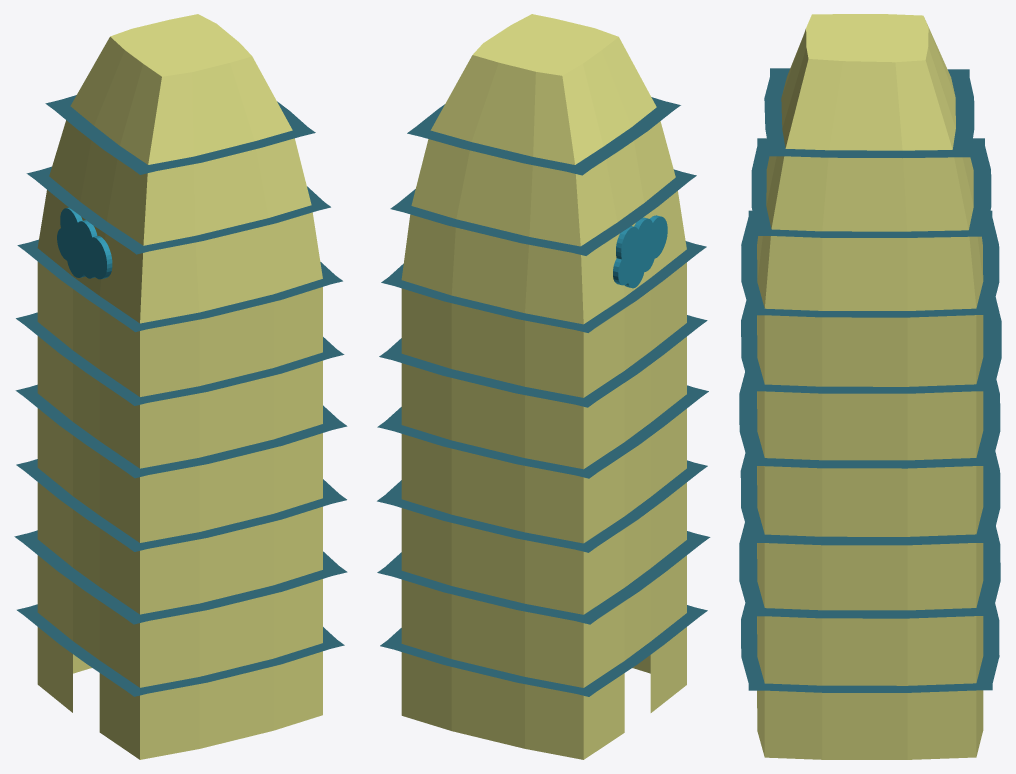
Rendered from NewSFT_v1.glb.
3 views of the same model, side by side, from view 1: azimuth 30°, elevation 25°; view 2: azimuth 150°, elevation 25°; view 3: azimuth 270°, elevation 25° (orthographic). The views are drawn at different scales.
Visible parts, largest first — view 1: Tower, Logo; view 2: Tower, Logo; view 3: Tower.
Part boxes in pixels (x1=…): Tower: x1=14, y1=14, x2=347, y2=759; Logo: x1=57, y1=207, x2=112, y2=279; Tower: x1=377, y1=14, x2=710, y2=759; Logo: x1=613, y1=215, x2=667, y2=288; Tower: x1=739, y1=14, x2=1001, y2=759.
Size of what is drawn, in the model's own units: 7.98 by 22.52 by 7.95.
